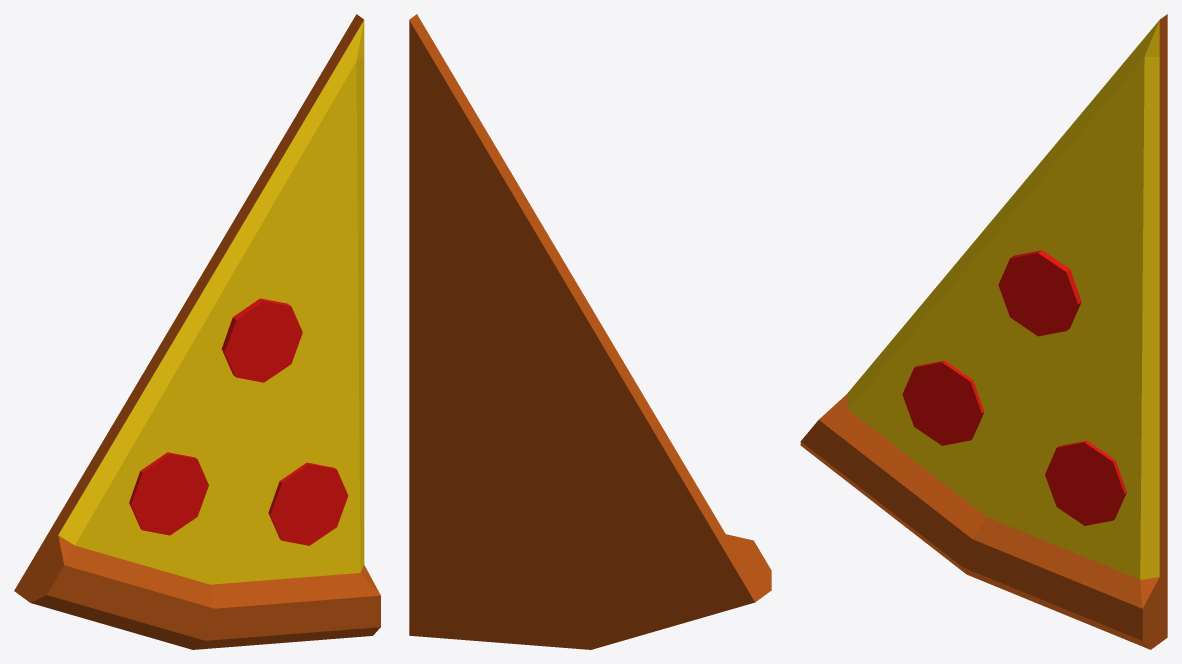
The model's file is PizzaSlice_01.obj.
3 views of the same model, side by side, from view 1: azimuth 30°, elevation 25°; view 2: azimuth 150°, elevation 25°; view 3: azimuth 330°, elevation 25° (orthographic). The views are drawn at different scales.
Visible parts, largest first — view 1: polySurface14, polySurface21; view 2: polySurface14; view 3: polySurface14, polySurface21.
Boxes of the visible parts, box(x1,y1,x2,y2) form: polySurface14: box(14, 14, 380, 649); polySurface21: box(268, 462, 348, 545); polySurface14: box(409, 14, 771, 649); polySurface14: box(800, 14, 1167, 649); polySurface21: box(1045, 441, 1126, 525).
Size of the model in its own units: 121 by 205 by 14.9.
